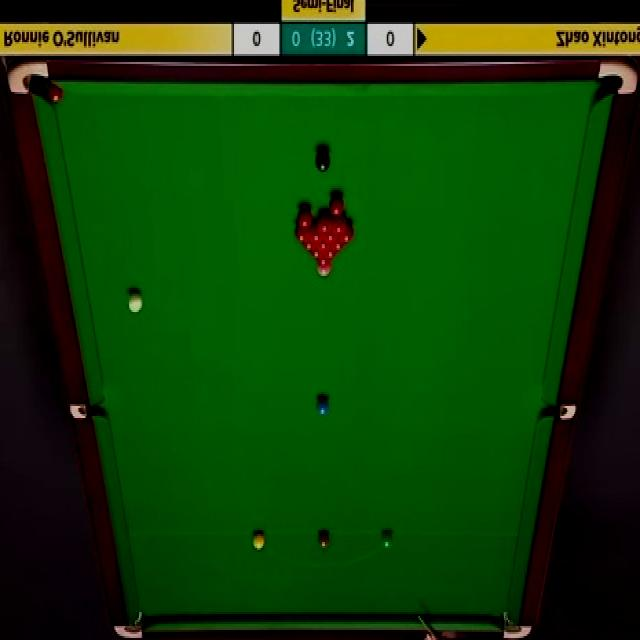black-ball: (314, 146, 332, 172)
blue-ball: (315, 394, 330, 418)
brown-ball: (317, 530, 330, 550)
green-ball: (380, 530, 393, 551)
pink-ball: (316, 264, 332, 279)
red-ball: (47, 79, 65, 106), (329, 192, 346, 215), (330, 213, 347, 234), (317, 212, 331, 234), (297, 208, 312, 228), (324, 222, 338, 242), (294, 227, 310, 244), (338, 226, 354, 242), (310, 225, 323, 242), (302, 241, 316, 252), (324, 250, 339, 259), (316, 242, 332, 250), (332, 241, 346, 250), (309, 251, 324, 259), (316, 259, 331, 267)
white-ball: (126, 291, 143, 314)
yellow-ball: (253, 530, 265, 550)
